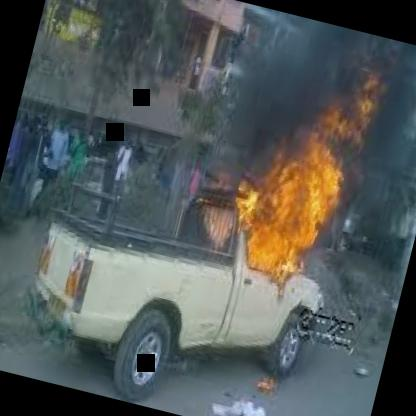fire: (184, 17, 382, 367)
